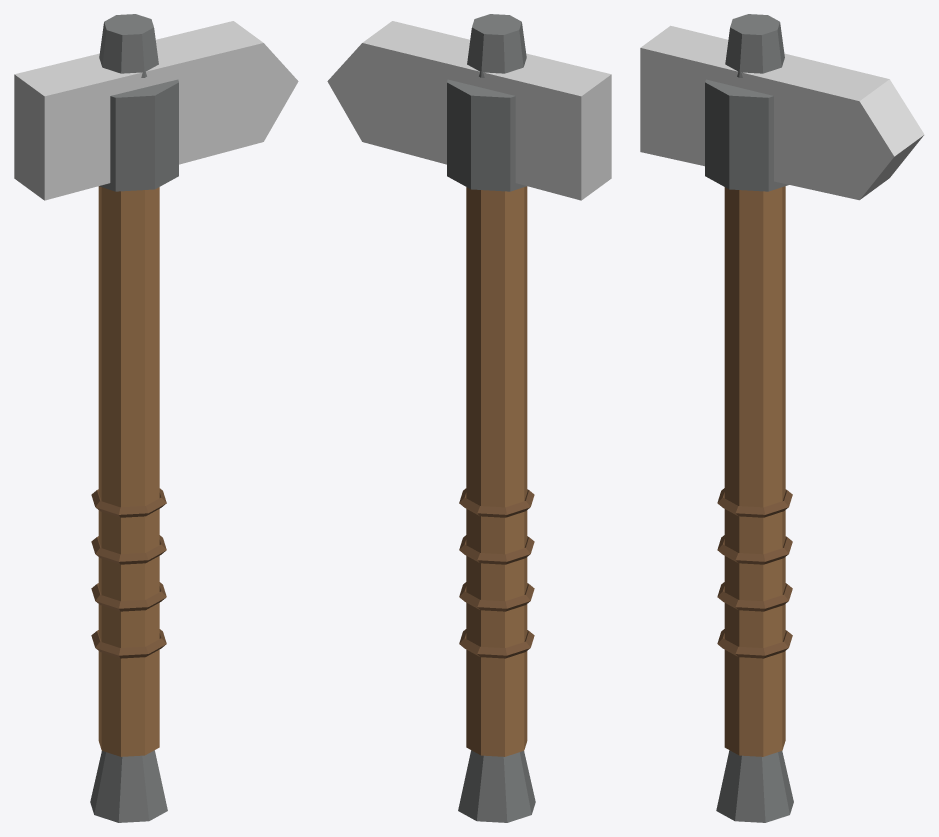
The model's file is t1_hammer.glb.
3 renders of one model, left to right at view 1: azimuth 30°, elevation 25°; view 2: azimuth 150°, elevation 25°; view 3: azimuth 330°, elevation 25°, orthographic.
Visible parts, largest first — view 1: WoodHandle, HeadCore, HeadSocket, BottomPommel, TopCap, LeatherWrap4, LeatherWrap3, LeatherWrap1, LeatherWrap2; view 2: WoodHandle, HeadCore, HeadSocket, BottomPommel, TopCap, LeatherWrap4, LeatherWrap3, LeatherWrap1, LeatherWrap2; view 3: WoodHandle, HeadCore, HeadSocket, BottomPommel, TopCap, LeatherWrap2, LeatherWrap3, LeatherWrap4, LeatherWrap1.
Part boxes in pixels (x1=…): WoodHandle: x1=98, y1=186, x2=159, y2=756; HeadCore: x1=14, y1=21, x2=298, y2=200; HeadSocket: x1=99, y1=79, x2=178, y2=191; BottomPommel: x1=90, y1=750, x2=167, y2=822; TopCap: x1=99, y1=14, x2=158, y2=77; LeatherWrap4: x1=91, y1=488, x2=166, y2=517; LeatherWrap3: x1=91, y1=535, x2=166, y2=564; LeatherWrap1: x1=91, y1=629, x2=166, y2=658; LeatherWrap2: x1=91, y1=582, x2=166, y2=611; WoodHandle: x1=466, y1=186, x2=527, y2=756; HeadCore: x1=327, y1=21, x2=611, y2=200; HeadSocket: x1=447, y1=79, x2=526, y2=191; BottomPommel: x1=458, y1=750, x2=535, y2=822; TopCap: x1=467, y1=14, x2=526, y2=77; LeatherWrap4: x1=459, y1=488, x2=534, y2=517; LeatherWrap3: x1=459, y1=535, x2=534, y2=564; LeatherWrap1: x1=459, y1=629, x2=534, y2=658; LeatherWrap2: x1=459, y1=582, x2=534, y2=611; WoodHandle: x1=724, y1=186, x2=785, y2=756; HeadCore: x1=640, y1=25, x2=924, y2=200; HeadSocket: x1=705, y1=79, x2=788, y2=191; BottomPommel: x1=716, y1=750, x2=793, y2=822; TopCap: x1=725, y1=14, x2=784, y2=77; LeatherWrap2: x1=717, y1=582, x2=792, y2=611; LeatherWrap3: x1=717, y1=535, x2=792, y2=564; LeatherWrap4: x1=717, y1=488, x2=792, y2=517; LeatherWrap1: x1=717, y1=629, x2=792, y2=658.
Bounding box in the file's own units: 0.51 × 1.5 × 0.18.
